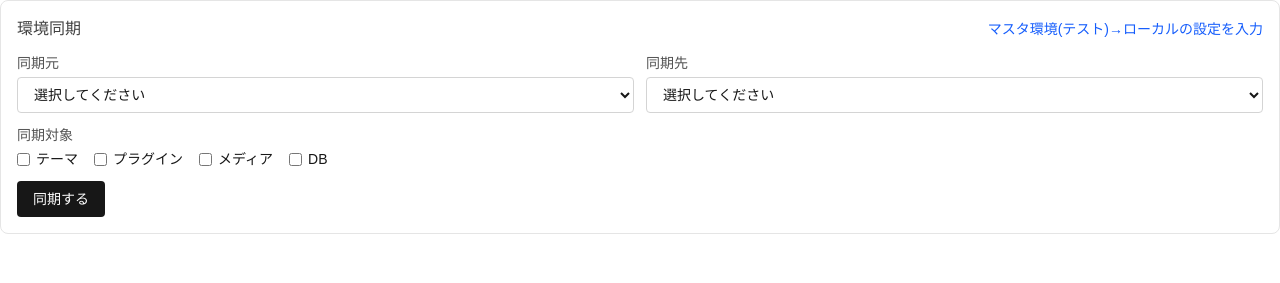
Test: EnvironmentSyncPanel(issue #1697: ジョブ受理の非同期) › 受理されたら、処理キューに追加された旨を示し、同期が終わったとは示さない
Select "本番" in the dropdown labelled "同期元" at [326, 95], box [17, 77, 634, 113]
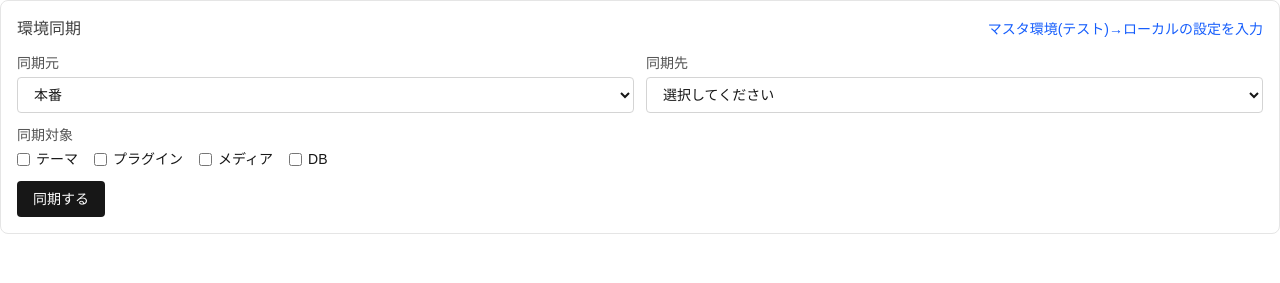
Select "ローカル" in the dropdown labelled "同期先" at [954, 95], box [646, 77, 1263, 113]
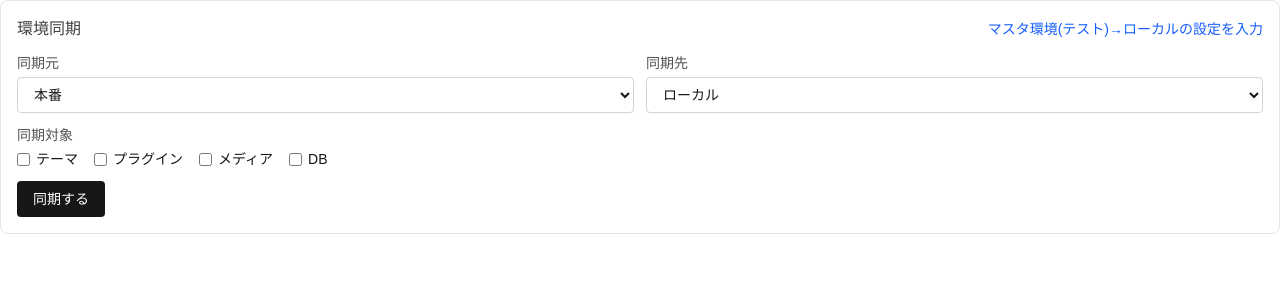
Click the checkbox labelled "DB" at [296, 159], box [289, 152, 302, 166]
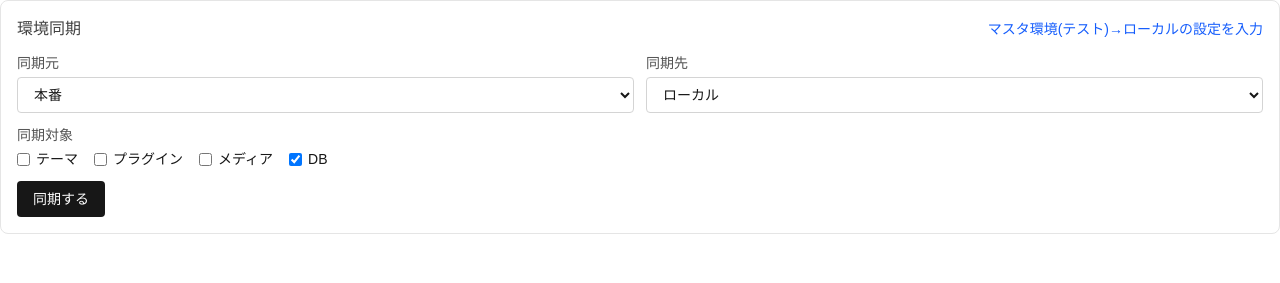
Submit the form "同期する", box [17, 53, 1263, 217]
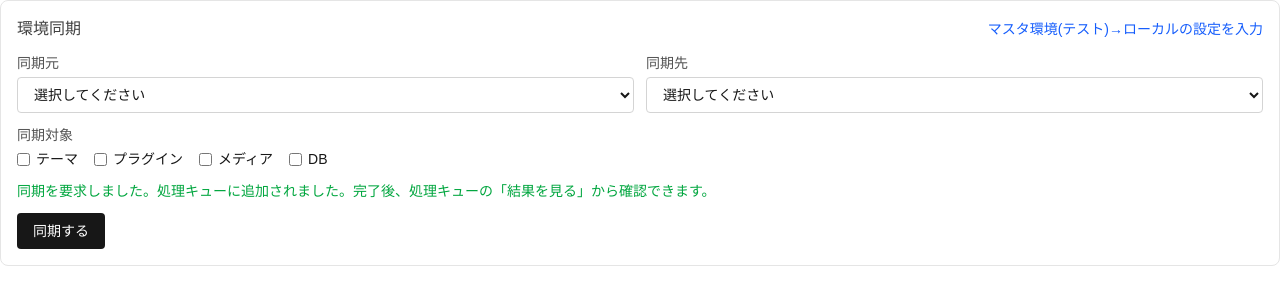
Check: the text "同期を要求しました。処理キューに追加されました。完了後、処理キューの「結果を見る」から確認できます。" is shown, box [17, 183, 716, 199]
